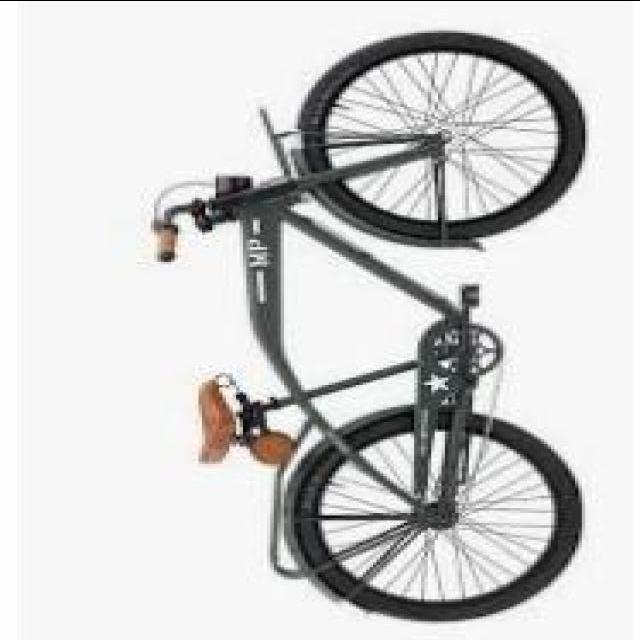bicycle: (131, 28, 613, 614)
